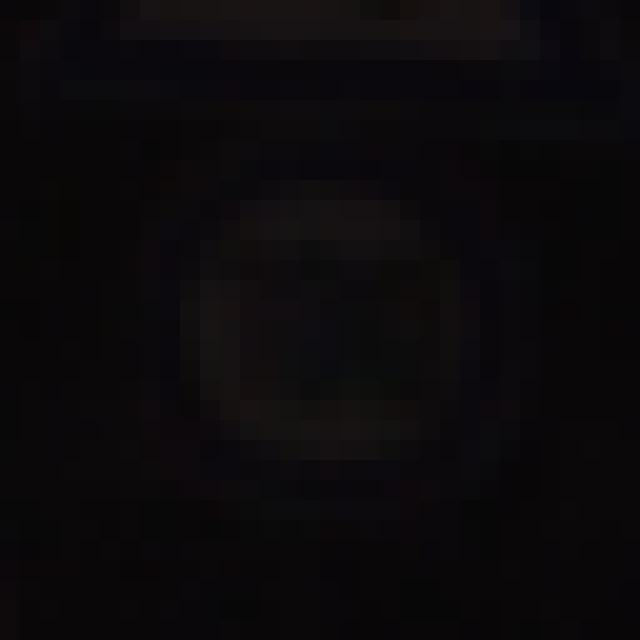SPEED LIMIT 100: (155, 156, 497, 502)
